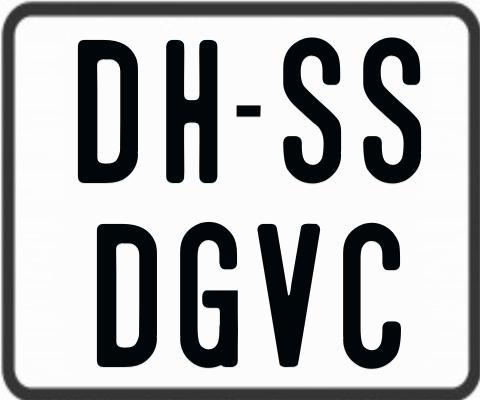C: (342, 223, 405, 372)
D: (78, 40, 144, 188), (96, 224, 160, 370)
G: (179, 221, 242, 369)
H: (163, 38, 219, 184)
S: (283, 35, 346, 187), (362, 34, 423, 181)
V: (255, 222, 322, 371)
